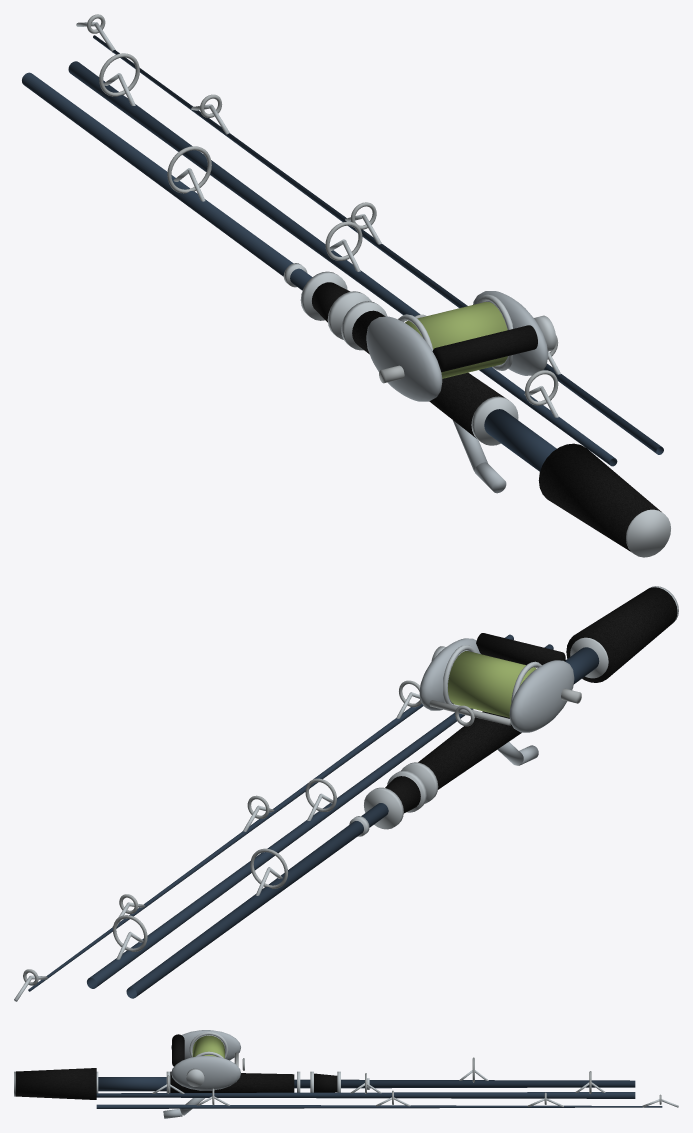
File: reed_lure_folded.glb
The picture shows the model from 3 angles, top to bottom: view 1: azimuth 30°, elevation 25°; view 2: azimuth 150°, elevation 25°; view 3: azimuth 270°, elevation 25°; orthographic projection. The views are drawn at different scales.
Visible parts, largest first — view 1: Folded rod; view 2: Folded rod; view 3: Folded rod.
Boxes of the visible parts, left/top/right/bottom form: Folded rod: left=22, top=14, right=670, bottom=557; Folded rod: left=14, top=586, right=678, bottom=1001; Folded rod: left=14, top=1030, right=678, bottom=1118.
Bounding box in the file's own units: 0.1244 × 0.0943 × 0.7405.
6 materials, 1 textured.
